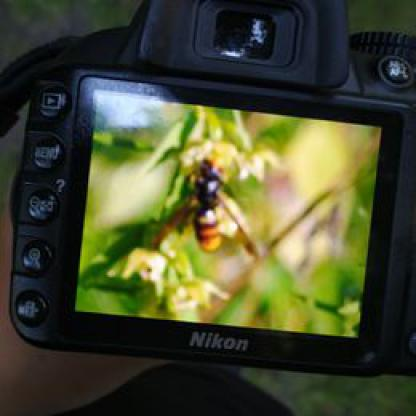Asian Hornet: (148, 148, 264, 262)
